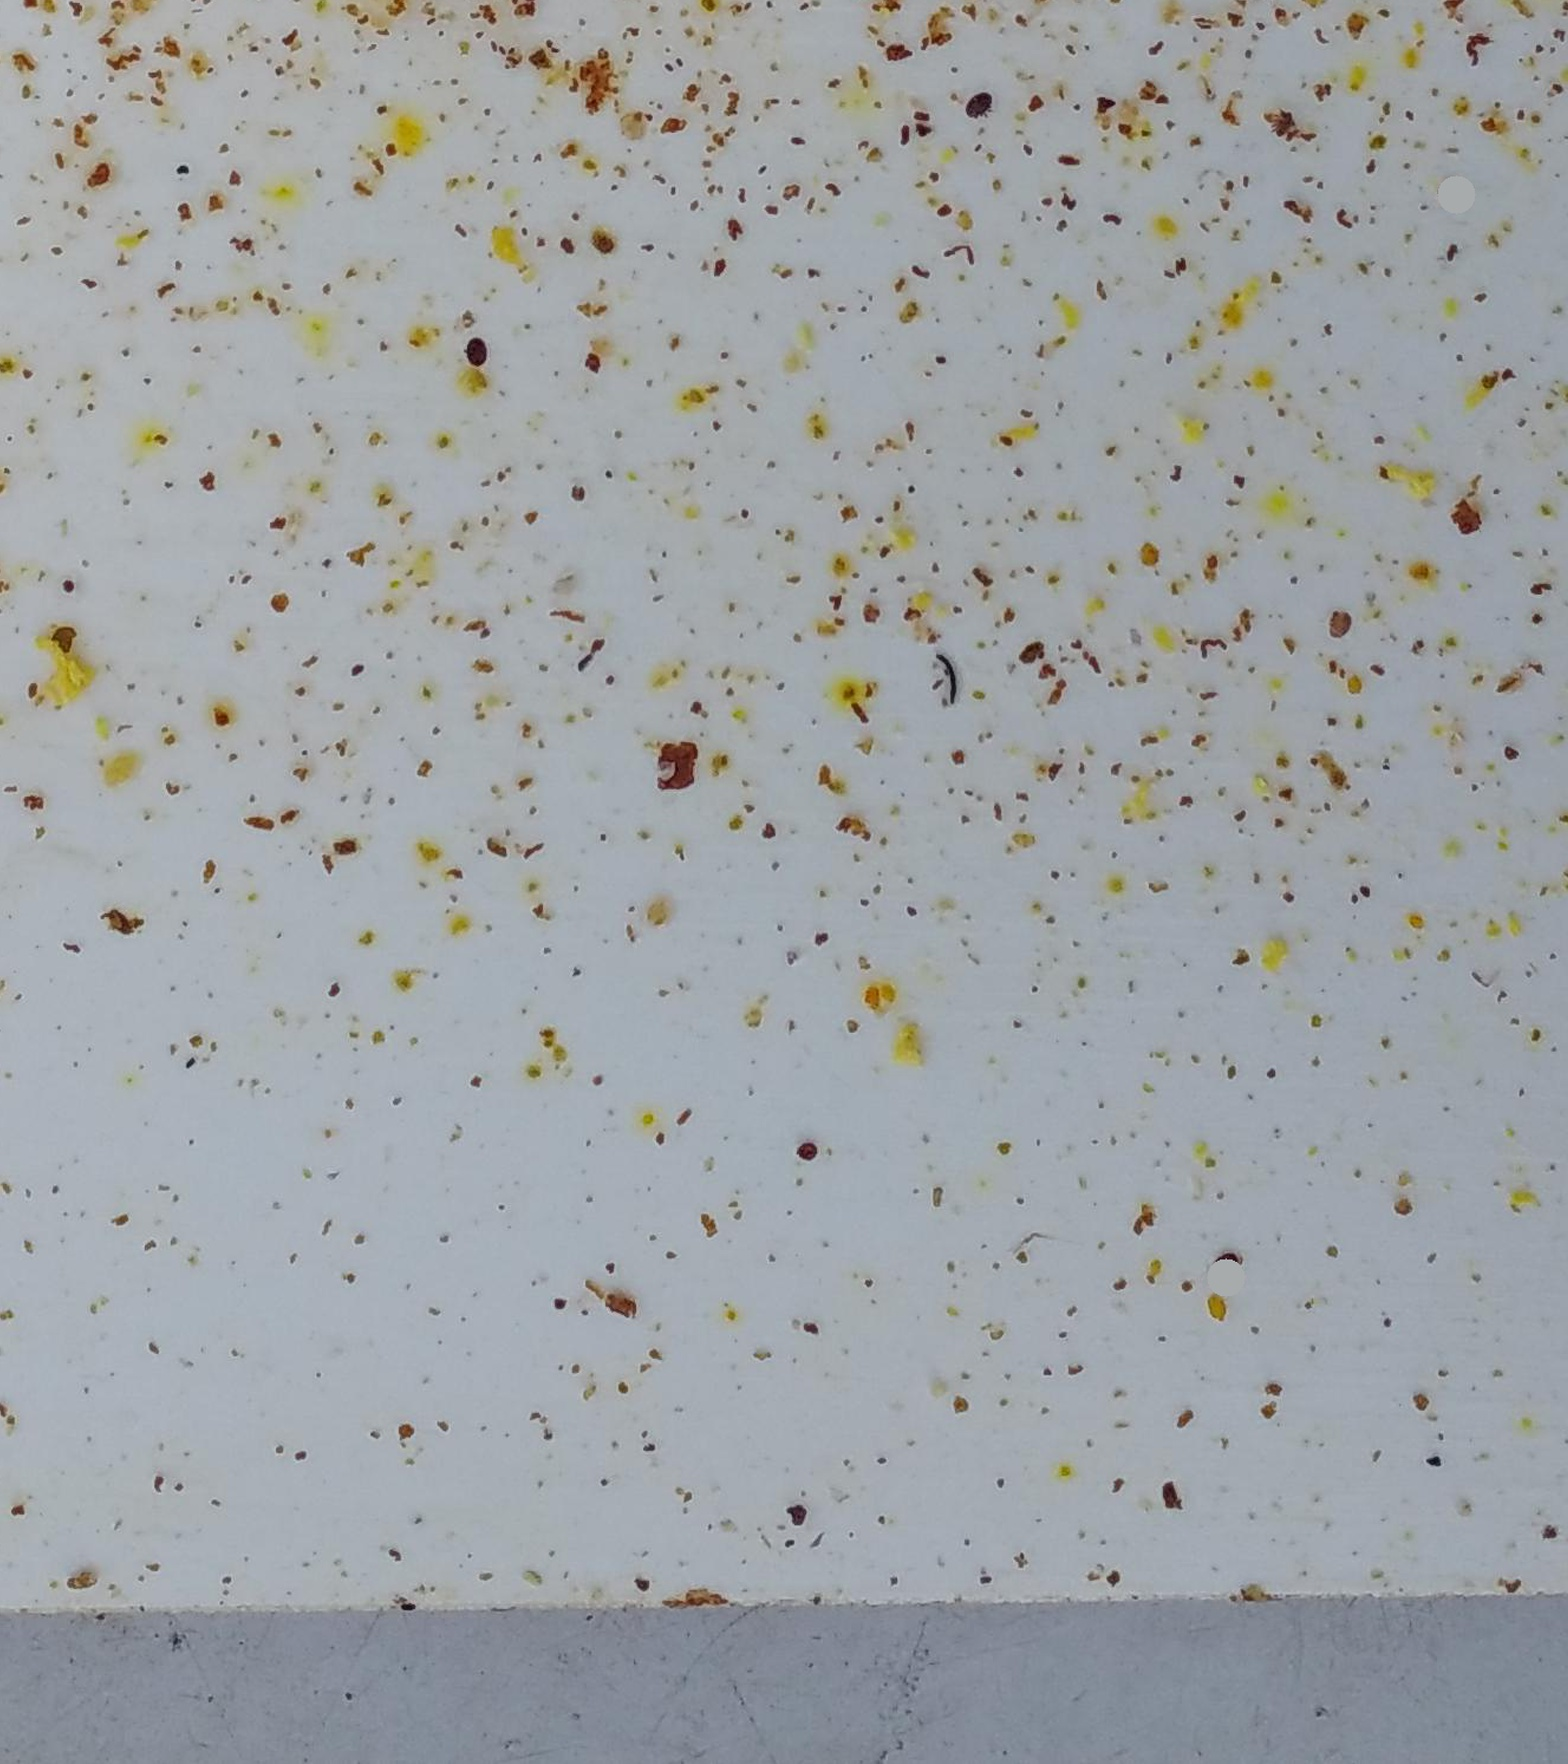Varroa: (1261, 103, 1302, 144), (1324, 610, 1355, 638), (972, 91, 991, 127), (468, 336, 493, 362), (1217, 1248, 1243, 1269)
